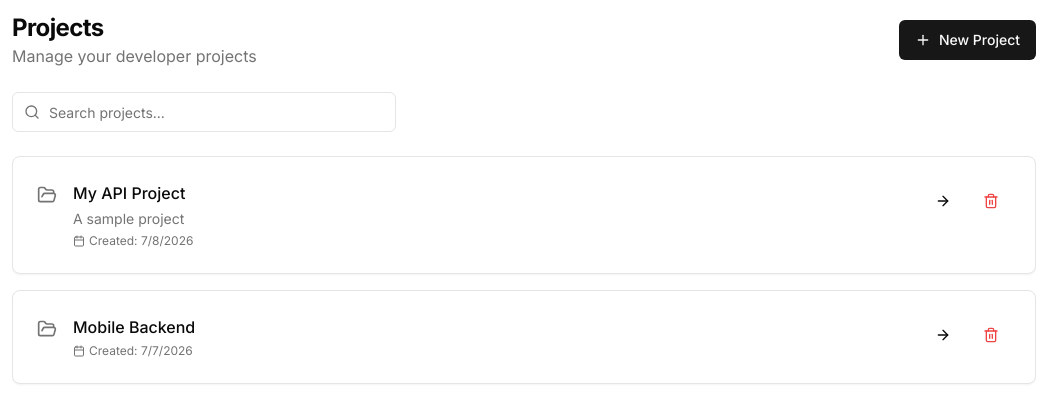
Test case: ProjectsPage › filters projects by search
Expected: the text "My API Project" is shown, x1=73 y1=181 x2=193 y2=205
Type "Mobile" into the field with placeholder "Search projects...". click: (204, 112)
box: x1=12 y1=92 x2=396 y2=132
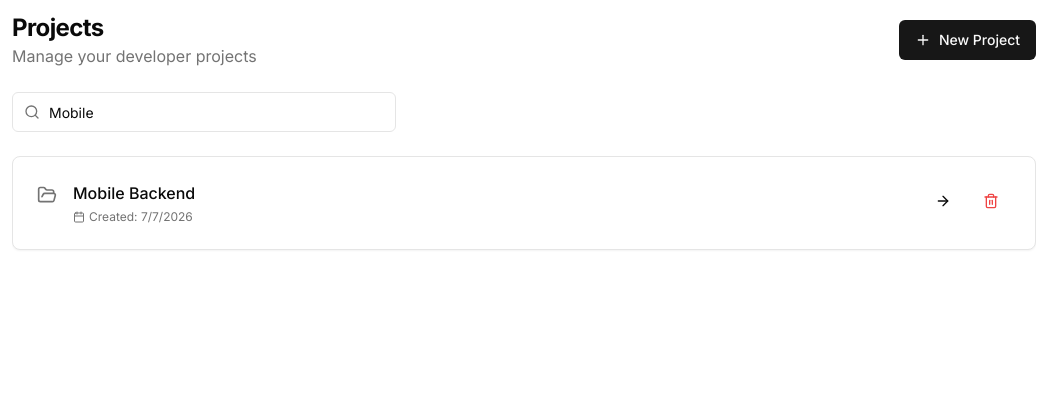
Expected: the text "Mobile Backend" is shown, x1=73 y1=181 x2=195 y2=205
Now the link "My API Project" is gone
